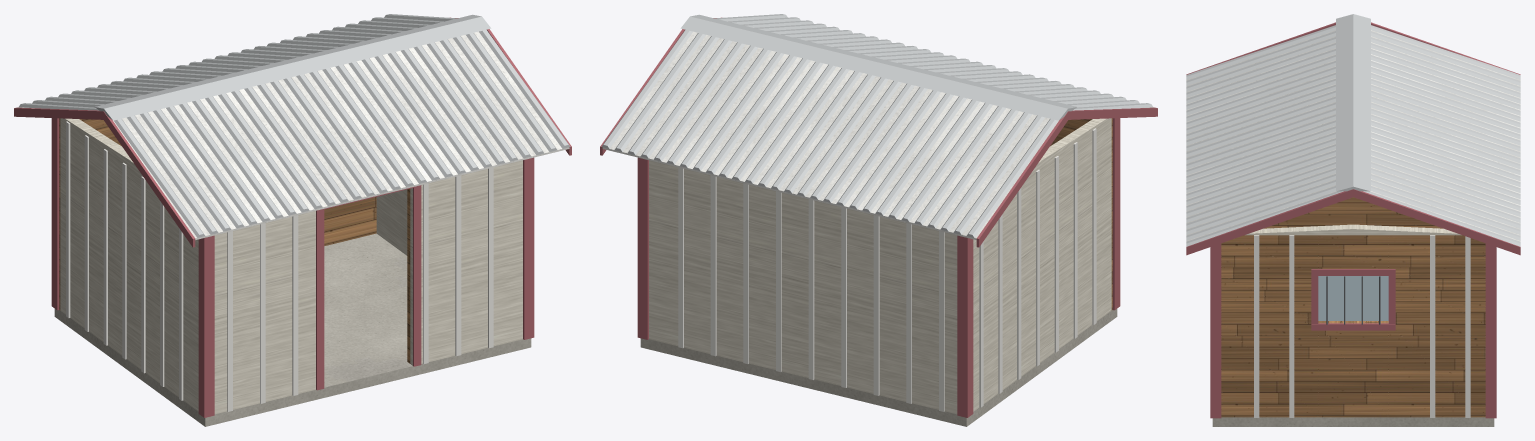
Rendered from shed.glb.
The picture shows the model from 3 angles, left to right: view 1: azimuth 30°, elevation 25°; view 2: azimuth 150°, elevation 25°; view 3: azimuth 270°, elevation 25°; orthographic projection. The views are drawn at different scales.
Visible parts, largest first — view 1: shed_siding, shed_galv, shed_ceil, shed_concrete, shed_trim_w, shed_trim, shed_wood; view 2: shed_siding, shed_galv, shed_ceil, shed_trim_w, shed_trim, shed_concrete, shed_wood; view 3: shed_galv, shed_wood, shed_ceil, shed_trim, shed_trim_w, shed_glass, shed_concrete, shed_siding, shed_iron.
Part boxes in pixels (x1,y1,x2,y2): shed_siding: (60, 118, 522, 414); shed_galv: (19, 14, 570, 237); shed_ceil: (17, 31, 569, 239); shed_concrete: (54, 233, 531, 426); shed_trim_w: (66, 121, 493, 411); shed_trim: (14, 17, 571, 417); shed_wood: (59, 118, 410, 363); shed_siding: (649, 118, 1111, 414); shed_galv: (601, 14, 1152, 237); shed_ceil: (602, 31, 1154, 239); shed_trim_w: (678, 128, 1096, 411); shed_trim: (600, 17, 1157, 417); shed_concrete: (640, 309, 1117, 426); shed_wood: (1050, 118, 1112, 310); shed_galv: (1186, 14, 1520, 246); shed_wood: (1221, 197, 1485, 417); shed_ceil: (1186, 30, 1520, 241); shed_trim: (1186, 22, 1520, 418); shed_trim_w: (1254, 235, 1470, 417); shed_glass: (1318, 276, 1388, 320); shed_concrete: (1212, 417, 1494, 426); shed_siding: (1245, 224, 1461, 235); shed_iron: (1326, 276, 1380, 324).
Size of the model in its own units: 4.65 by 3.16 by 3.8.
9 materials, 4 textured.
